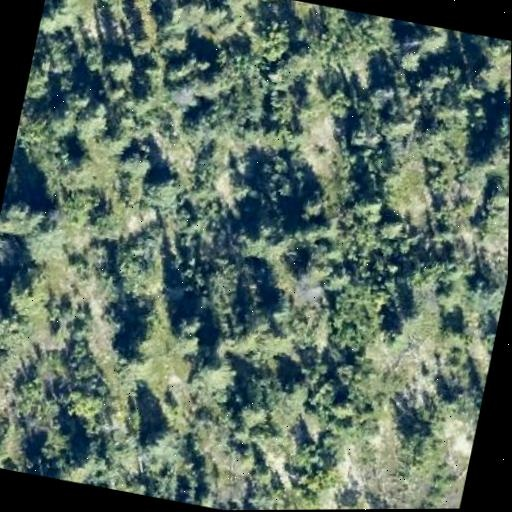tree-top: (320, 268, 396, 359), (225, 359, 295, 432), (243, 286, 302, 352), (111, 239, 170, 304), (172, 442, 225, 509), (0, 267, 56, 329), (120, 302, 174, 363), (59, 377, 117, 429), (396, 420, 449, 472), (51, 131, 101, 184), (92, 429, 142, 481), (138, 414, 187, 467), (252, 11, 302, 62), (88, 297, 135, 351), (159, 0, 212, 46), (0, 299, 42, 357), (0, 191, 45, 244), (27, 425, 78, 471), (469, 119, 510, 176), (137, 163, 185, 210), (253, 152, 298, 202), (294, 239, 338, 288), (190, 100, 233, 148), (162, 44, 207, 87), (383, 104, 423, 152), (38, 0, 89, 37), (392, 35, 435, 77), (24, 55, 59, 106), (468, 266, 508, 310), (113, 146, 156, 186), (365, 76, 409, 115), (171, 303, 210, 345), (293, 184, 334, 223), (89, 206, 127, 246), (101, 48, 140, 86), (437, 318, 477, 354), (327, 388, 364, 426), (372, 209, 411, 243), (353, 192, 388, 223), (13, 104, 34, 155), (0, 435, 18, 470), (92, 0, 133, 9)
